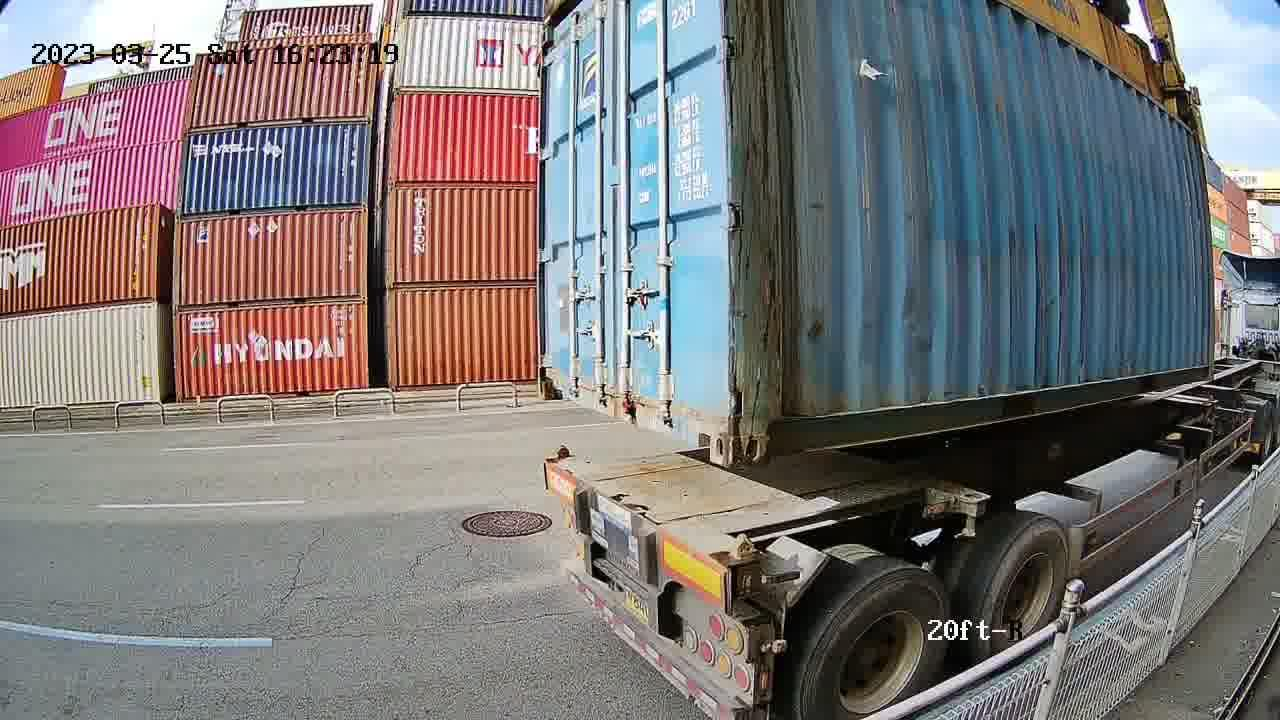Chassis: (546, 456, 756, 597)
Cone: (724, 533, 757, 597), (551, 443, 570, 462)
Hole_L: (730, 391, 804, 466), (536, 361, 573, 404)
Hole_R: (682, 385, 731, 469)
Tire: (792, 565, 947, 717), (984, 519, 1070, 665)
